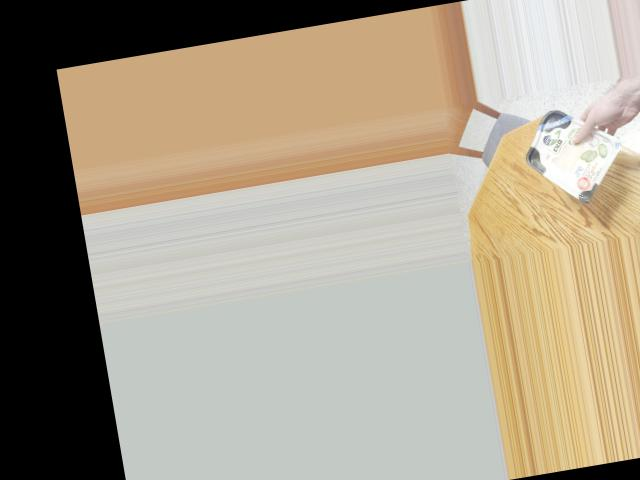cheese: (518, 109, 612, 200)
